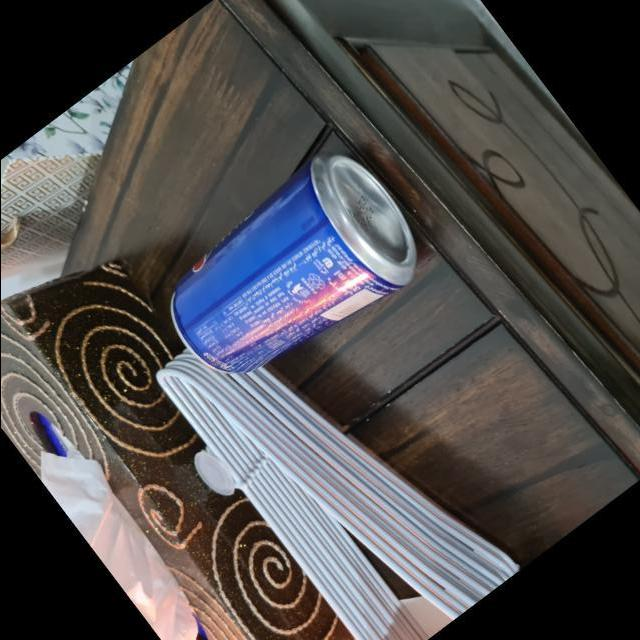can: (141, 135, 440, 415)
